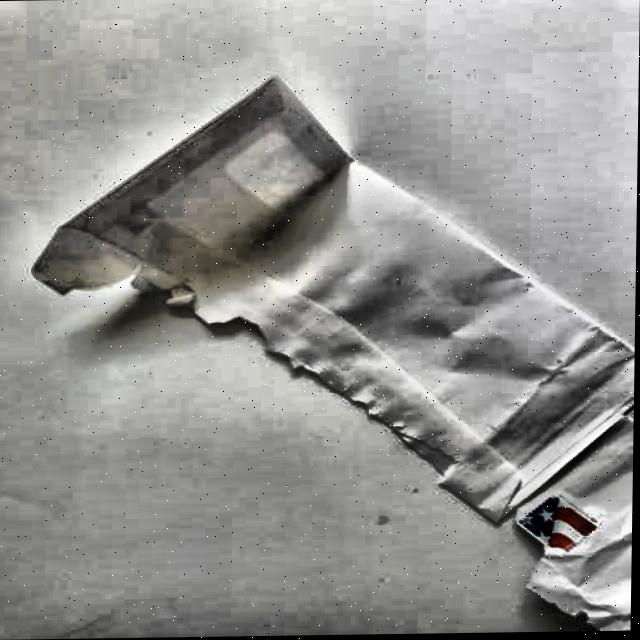paper: (28, 66, 639, 639)
